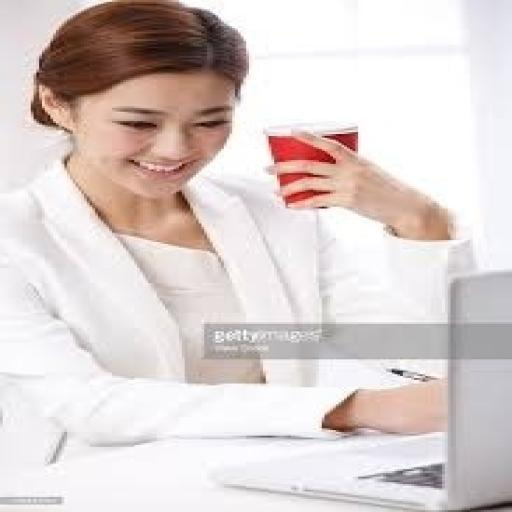drinking: (260, 121, 358, 209)
